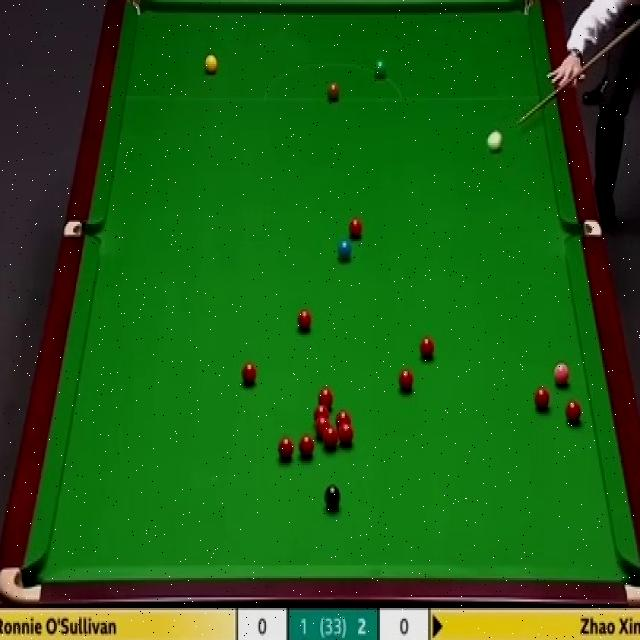black-ball: (323, 484, 341, 507)
blue-ball: (336, 238, 354, 262)
brown-ball: (326, 81, 340, 102)
green-ball: (374, 57, 386, 79)
pink-ball: (552, 362, 572, 387)
red-ball: (277, 435, 295, 461), (534, 384, 550, 412), (564, 399, 582, 423), (418, 335, 435, 359), (296, 308, 312, 333), (299, 434, 315, 459), (339, 421, 354, 447), (241, 360, 257, 384), (348, 216, 363, 241), (317, 386, 333, 409), (398, 368, 413, 391), (324, 426, 338, 450), (313, 404, 329, 423), (316, 417, 330, 438), (336, 409, 352, 425)
white-ball: (487, 129, 502, 154)
yellow-ball: (204, 54, 217, 76)
